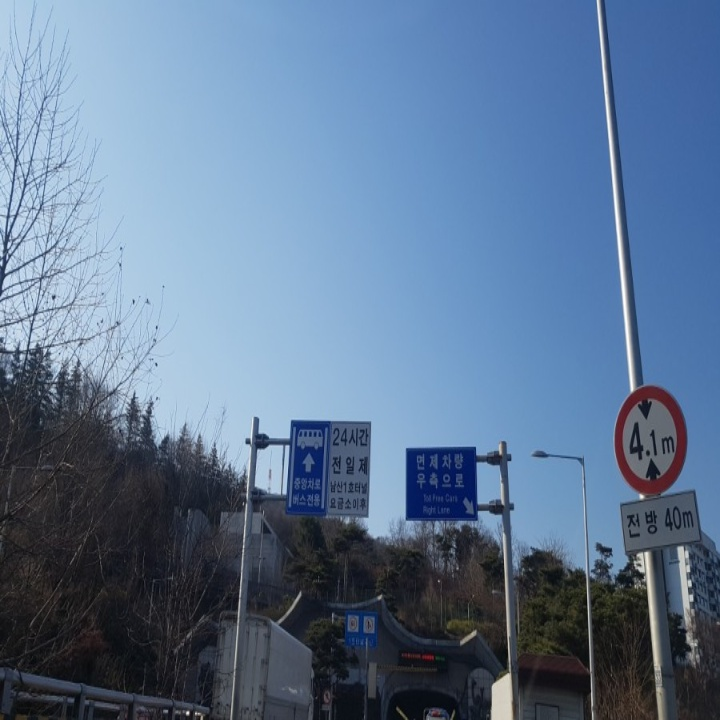bus: (293, 425, 327, 451)
